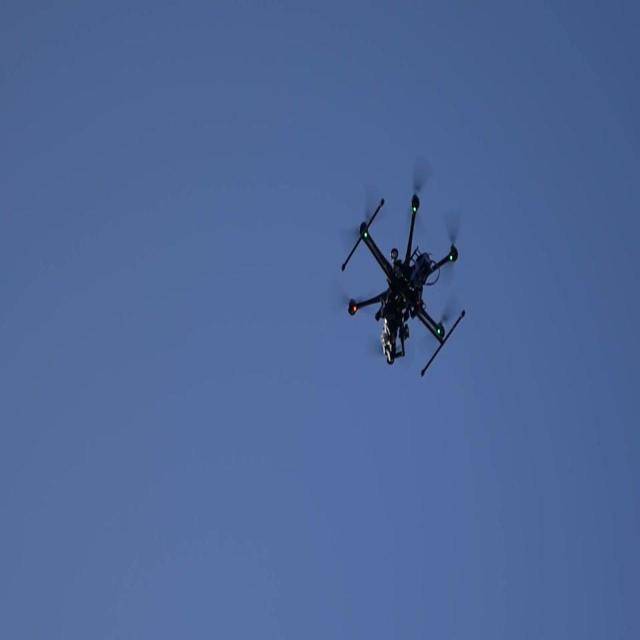drone: (341, 184, 467, 382)
